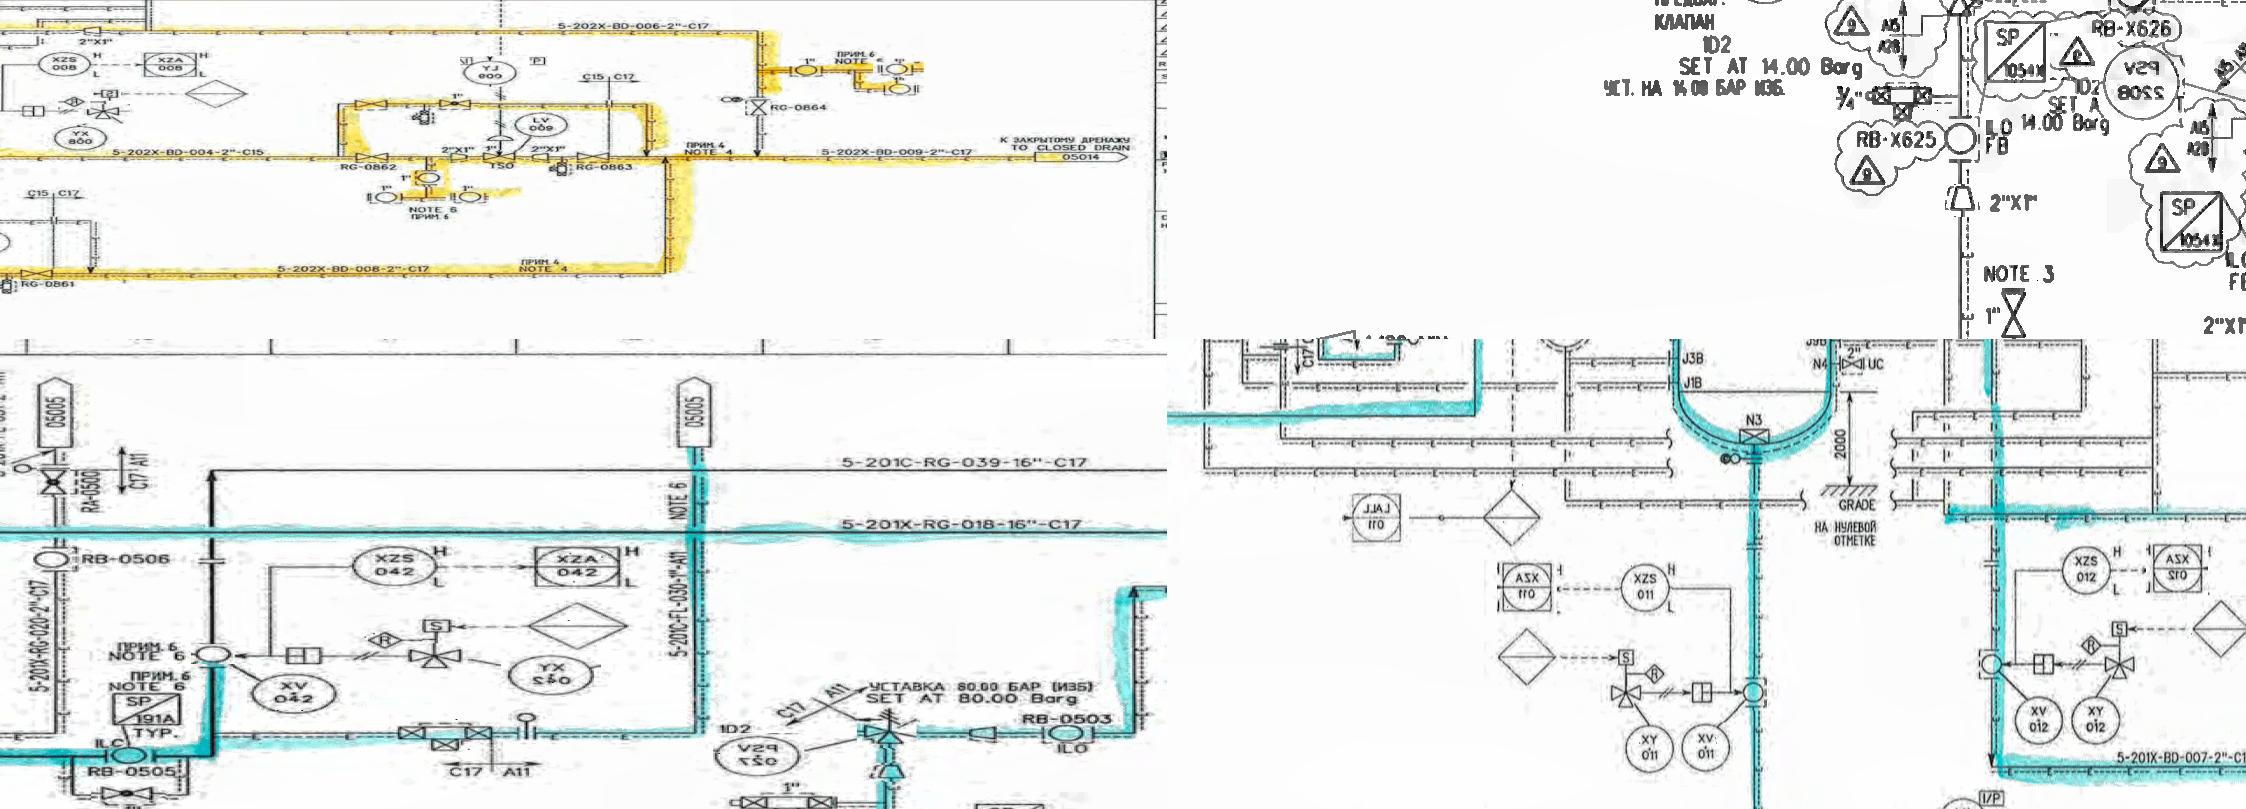2 WAY VALVE: (385, 378, 496, 415), (1859, 82, 1944, 123)
3 WAY GENERAL VALVE: (1604, 682, 1649, 710), (2101, 653, 2141, 683), (79, 105, 130, 123)
ANGLE RELIEF VALVE: (859, 365, 920, 411), (1942, 0, 1994, 27)
BLIND SPADE OPEN: (511, 372, 547, 404), (1374, 339, 1422, 349)
CONCENTRIC REDUCER: (1945, 185, 1978, 218), (964, 384, 1007, 402), (868, 424, 910, 442), (445, 150, 473, 163), (529, 150, 560, 160), (76, 27, 110, 36)
DCS ACCESSIBLE: (1344, 488, 1411, 553), (1497, 556, 1557, 623), (2146, 537, 2207, 596), (139, 49, 209, 80)
END CAP: (478, 130, 517, 145)
FIELD INSTRUMENT: (2098, 42, 2184, 117), (715, 395, 808, 440), (246, 339, 344, 377), (2061, 537, 2113, 599), (1679, 723, 1732, 777), (1619, 561, 1672, 616), (2070, 694, 2126, 745), (2015, 693, 2066, 742), (1624, 725, 1674, 772), (461, 56, 531, 87), (1939, 113, 1980, 162), (510, 112, 582, 137), (501, 339, 604, 357), (49, 125, 112, 152), (39, 50, 92, 80), (1974, 649, 2008, 684), (1739, 676, 1768, 710), (110, 407, 155, 427), (874, 62, 924, 79), (1932, 795, 1991, 809), (1050, 385, 1090, 405), (447, 192, 491, 206), (884, 79, 920, 96), (788, 62, 822, 79), (413, 170, 445, 188), (368, 190, 403, 205)
GATE VALVE: (1992, 276, 2038, 339), (17, 268, 63, 282), (351, 96, 394, 110), (350, 150, 394, 163), (572, 150, 617, 162), (481, 150, 521, 162), (746, 99, 771, 116)
GLOBE VALVE: (93, 448, 168, 465), (435, 97, 480, 112)
HARDWIRED INTERLOCK FIELD: (2111, 0, 2156, 19), (59, 95, 90, 109)
HARDWIRED INTERLOCK PRIMARY.: (1493, 627, 1561, 692), (1481, 483, 1543, 550), (2187, 596, 2246, 664), (179, 79, 251, 112), (2076, 631, 2106, 656), (1643, 663, 1667, 684)
IP CONVERTER: (1970, 785, 2011, 809)
REVISION TRIANGLE: (2139, 135, 2196, 182), (2051, 33, 2100, 80), (1842, 152, 1895, 193), (1835, 1, 1874, 43)
SPECIAL PIPING ITEM: (2156, 182, 2233, 261), (1980, 19, 2051, 87), (100, 351, 191, 389)
SPECTACLE BLIND OPEN: (1712, 444, 1773, 473)
SPEED FLOW METER: (1610, 643, 1636, 669), (2107, 616, 2133, 641), (93, 84, 122, 100)
